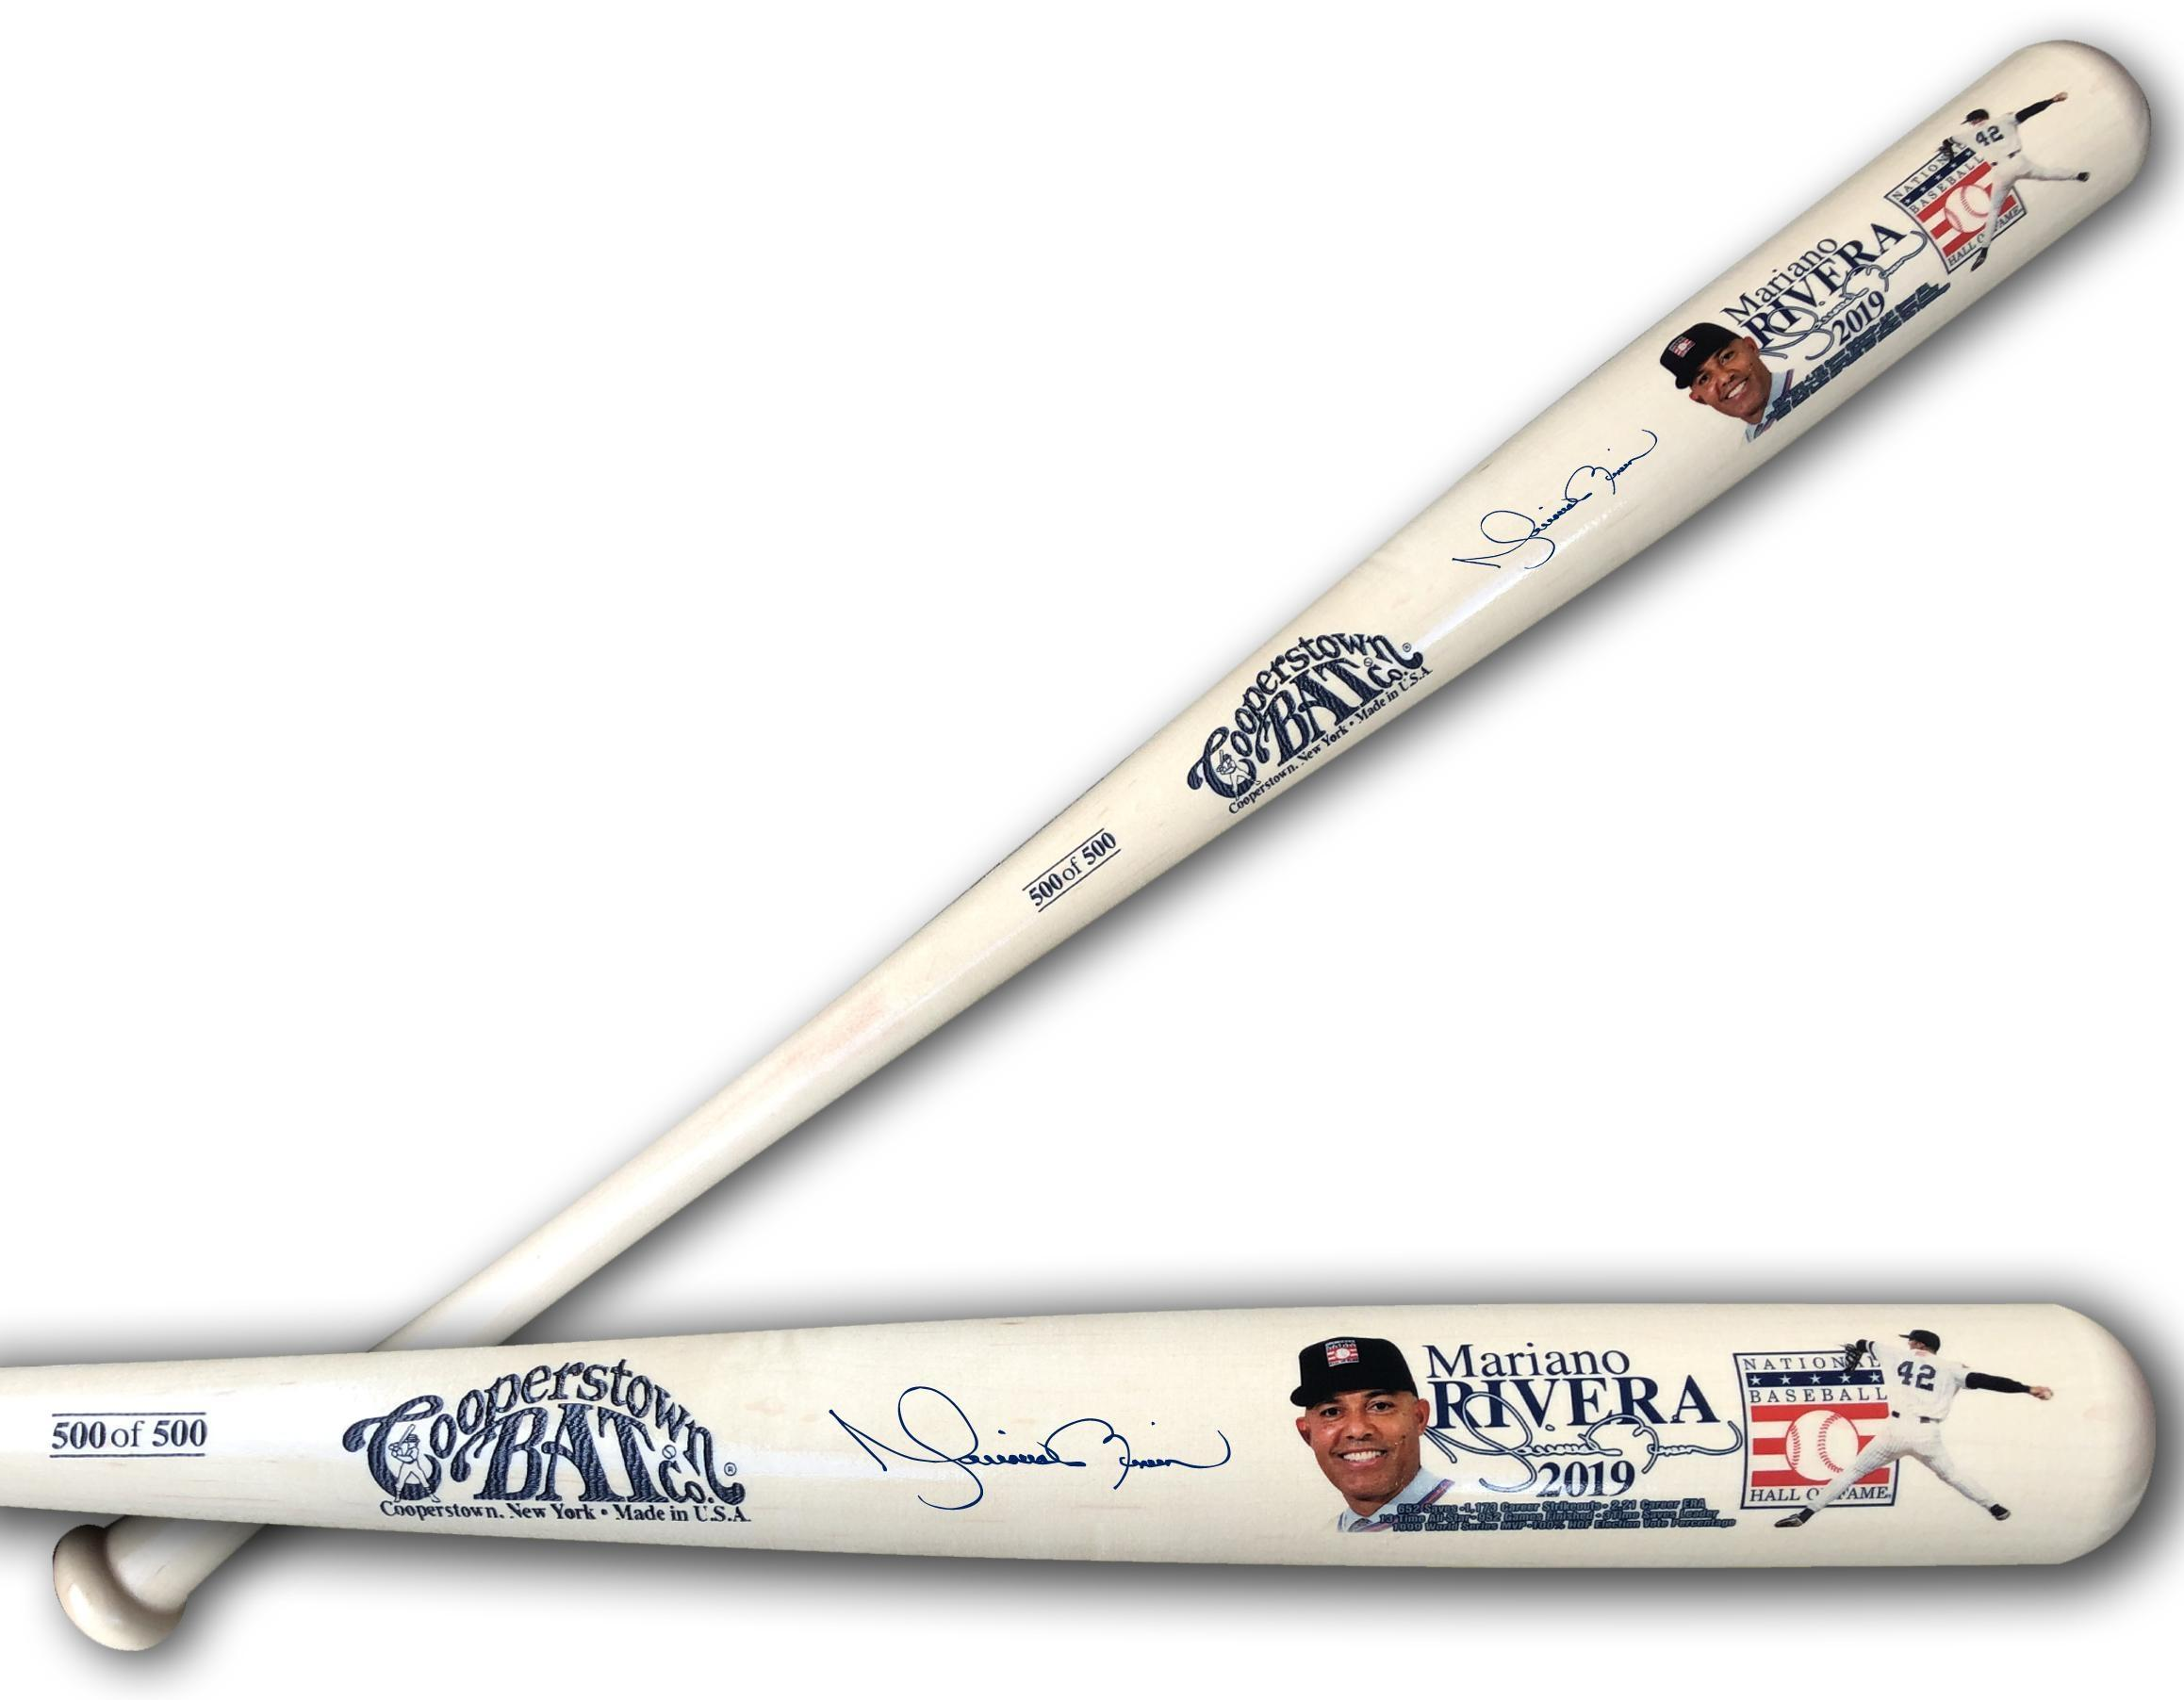Baseball-Bat: (0, 1287, 2173, 1578)
